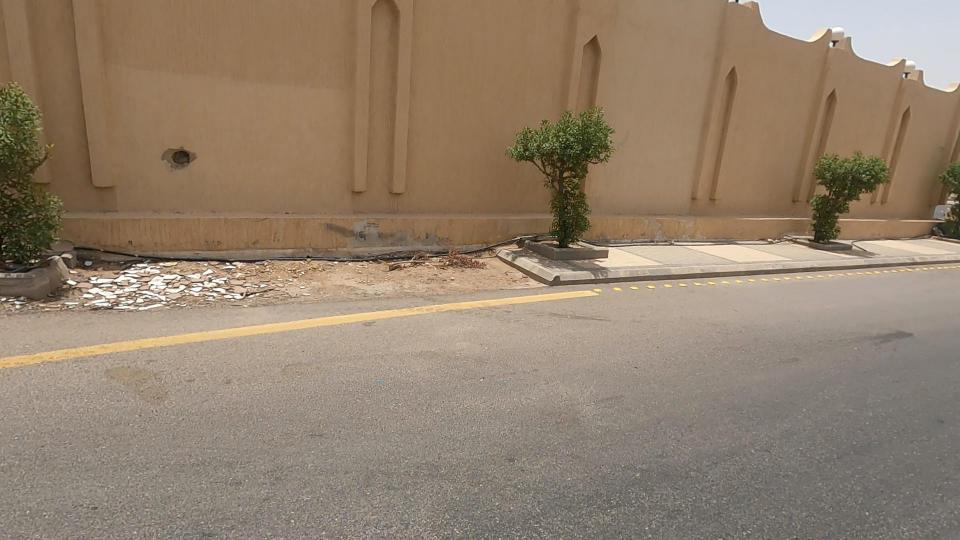GARBAGE: (324, 203, 536, 307), (44, 226, 224, 318)
